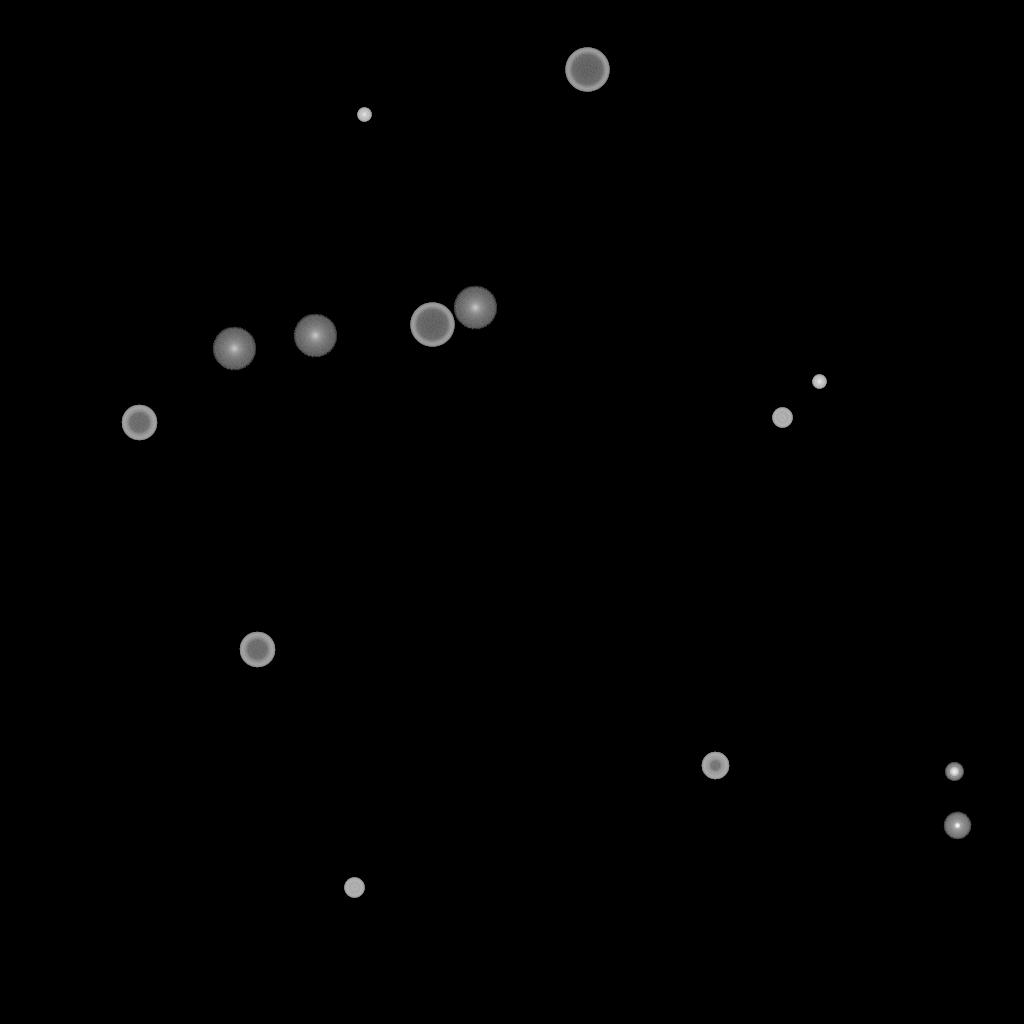depth:-10: (943, 812, 971, 840)
depth:-20: (945, 763, 963, 781)
depth:-30: (357, 108, 371, 122), (812, 375, 826, 389)
depth:-40: (772, 408, 792, 428), (344, 878, 364, 898)
depth:-50: (701, 752, 729, 780)
depth:-60: (121, 405, 157, 441), (239, 632, 275, 668)
depth:-70: (410, 303, 454, 347), (565, 48, 609, 92)
depth:10: (453, 286, 497, 330), (212, 327, 256, 371), (293, 314, 337, 358)
